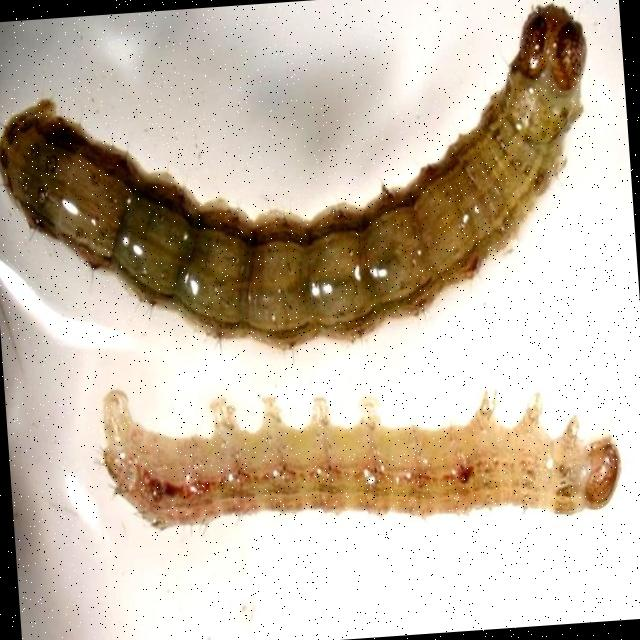worm: (1, 2, 608, 377), (95, 357, 625, 551)
